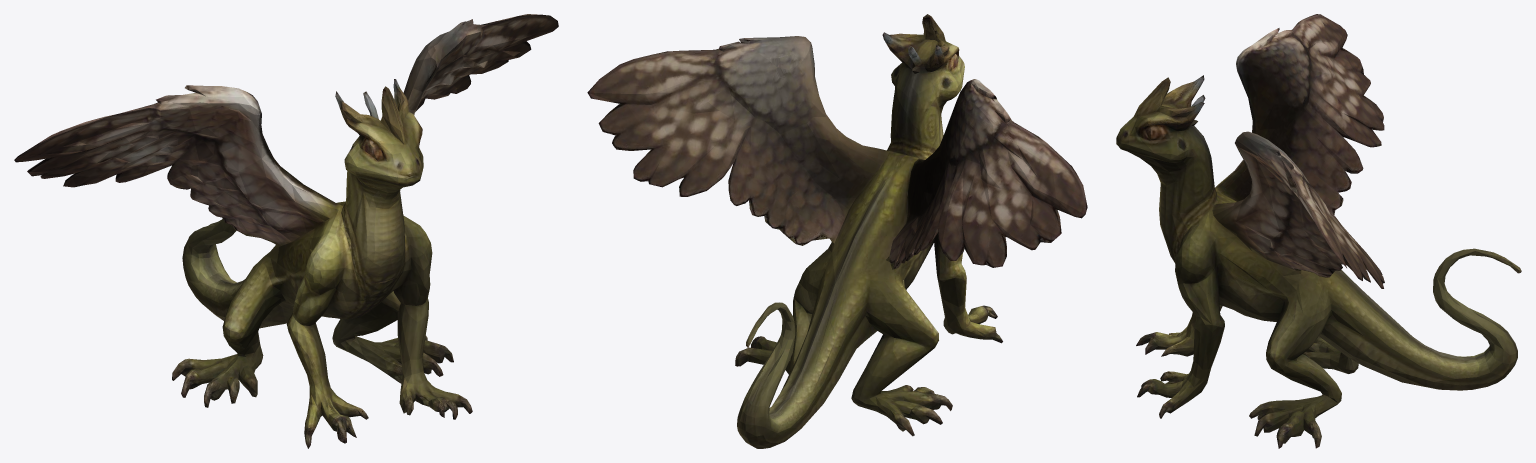
Rendered from featherWyvern.glb.
The picture shows the model from 3 angles, left to right: view 1: azimuth 30°, elevation 25°; view 2: azimuth 150°, elevation 25°; view 3: azimuth 270°, elevation 25°; orthographic projection. The views are drawn at different scales.
Visible parts, largest first — view 1: world; view 2: world; view 3: world.
Part boxes in pixels (left/top/right/bottom): world: left=14, top=14, right=558, bottom=448; world: left=587, top=14, right=1087, bottom=448; world: left=1116, top=14, right=1521, bottom=448.
Bounding box in the file's own units: 0.9893 × 0.6172 × 0.7158.
1 material, 1 textured.
